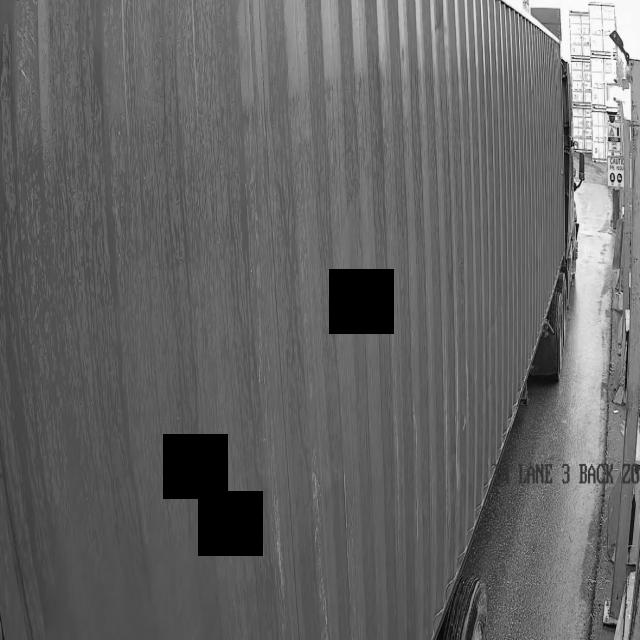truck_with_container: (0, 0, 581, 640)
